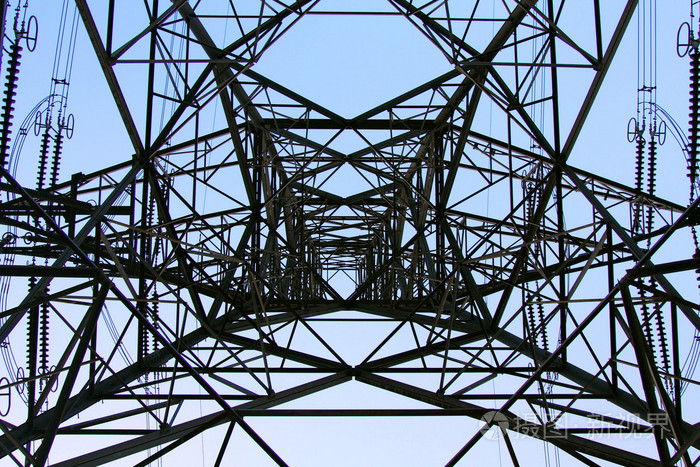insulator: (639, 277, 671, 371), (1, 44, 23, 174), (25, 282, 53, 371), (631, 136, 657, 229), (685, 51, 700, 184), (523, 295, 551, 348), (33, 133, 51, 186), (50, 134, 64, 187)
